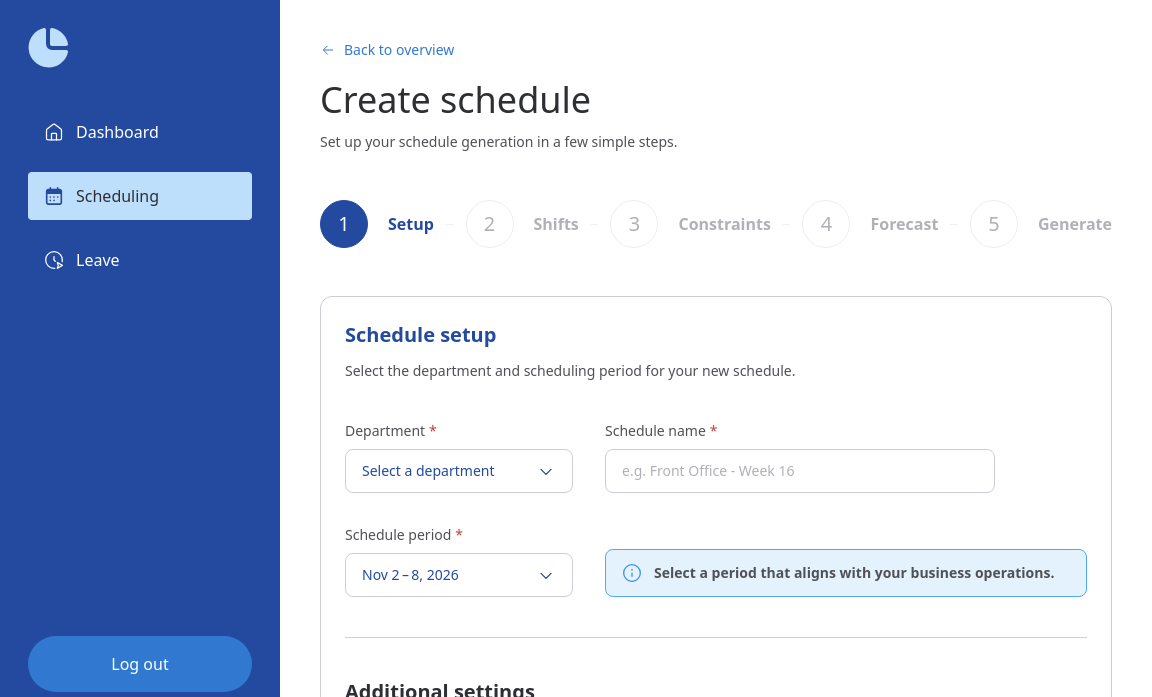
Test: Create Schedule: opening and setup › given_aCompletedSetup_when_nextClicked_then_createsTheDraftAtTheChosenDepartmentAndOpensItsShifts
The image size is (1152, 697).
Step 1. Click the button "Select a department" → (459, 471), box [345,449,573,493]
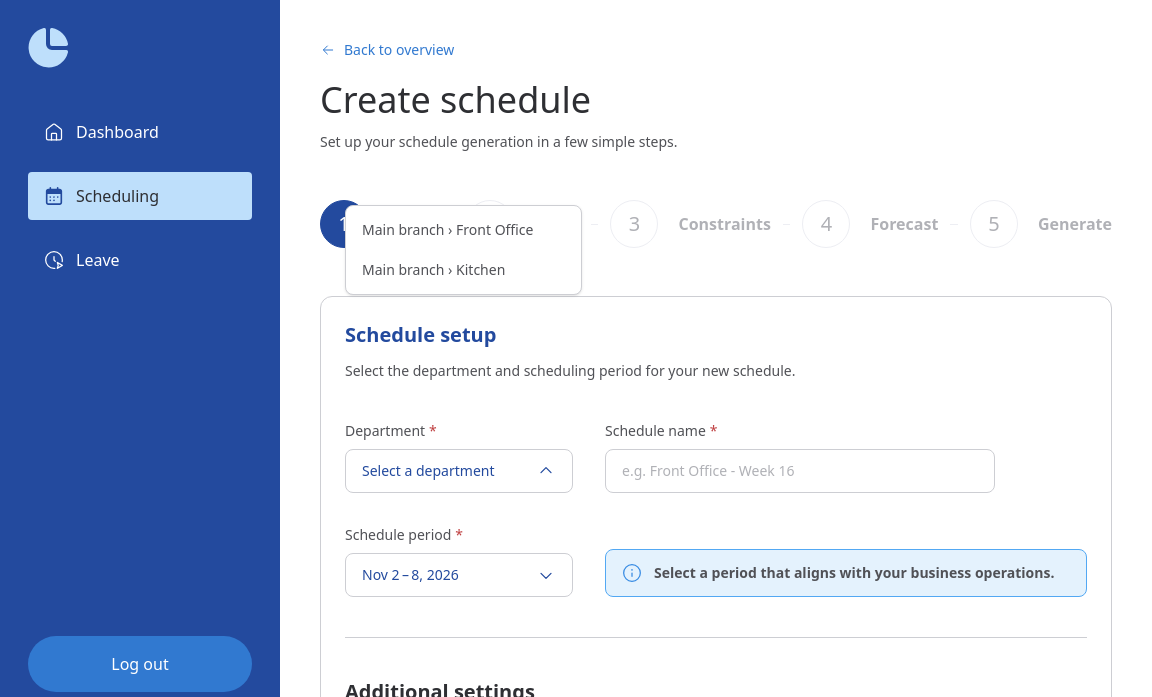
Step 2. Click the option "Main branch › Front Office" → (448, 230), box [362,220,534,239]
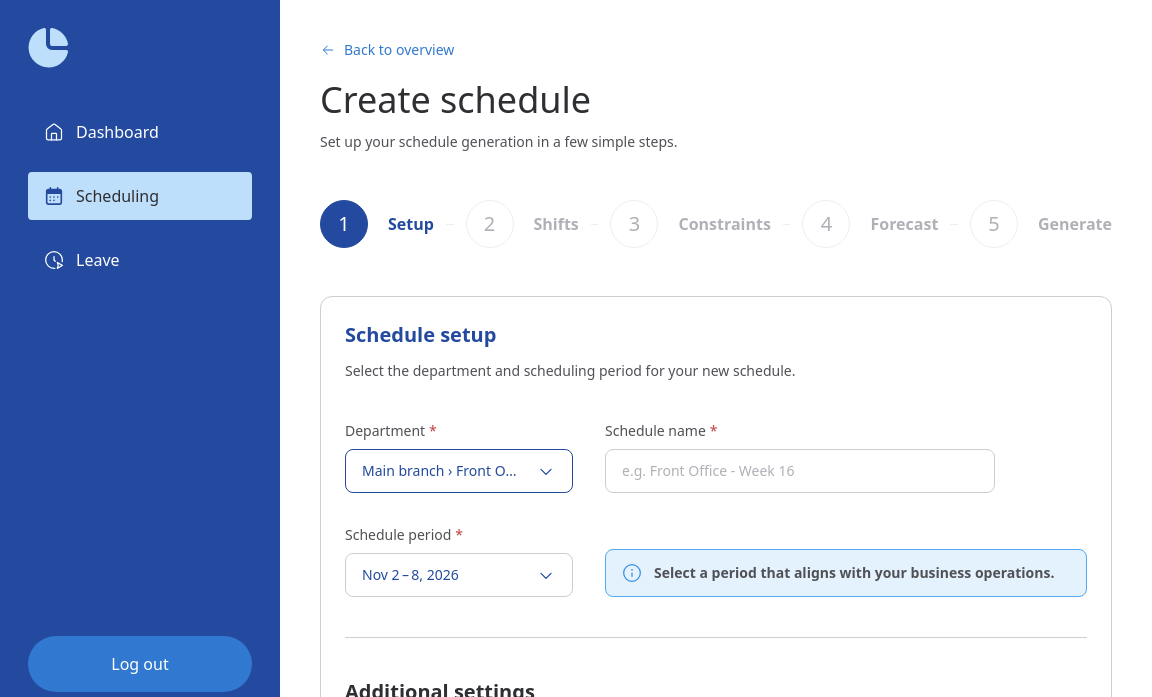
Step 3. Type "Front Office - Week 42" into the field labelled "Schedule name*" → (800, 471), box [622,461,978,481]
(page scrolled)
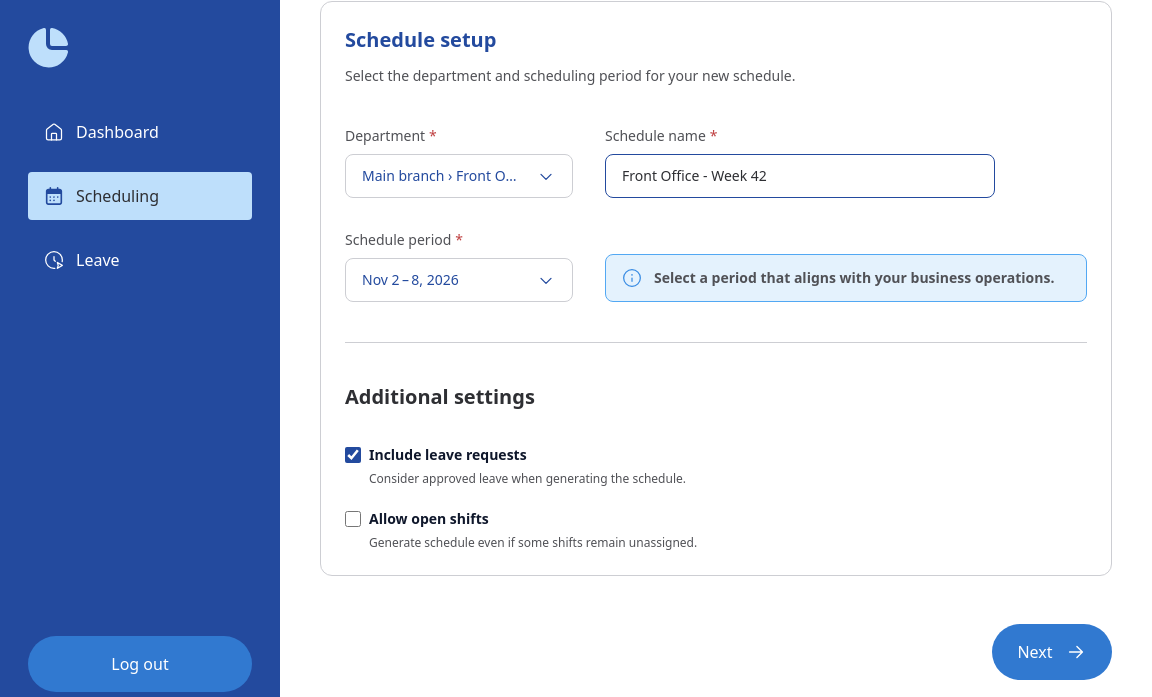
Step 4. Click the button "Next" → (1052, 652), box [992,624,1112,680]
(page scrolled)
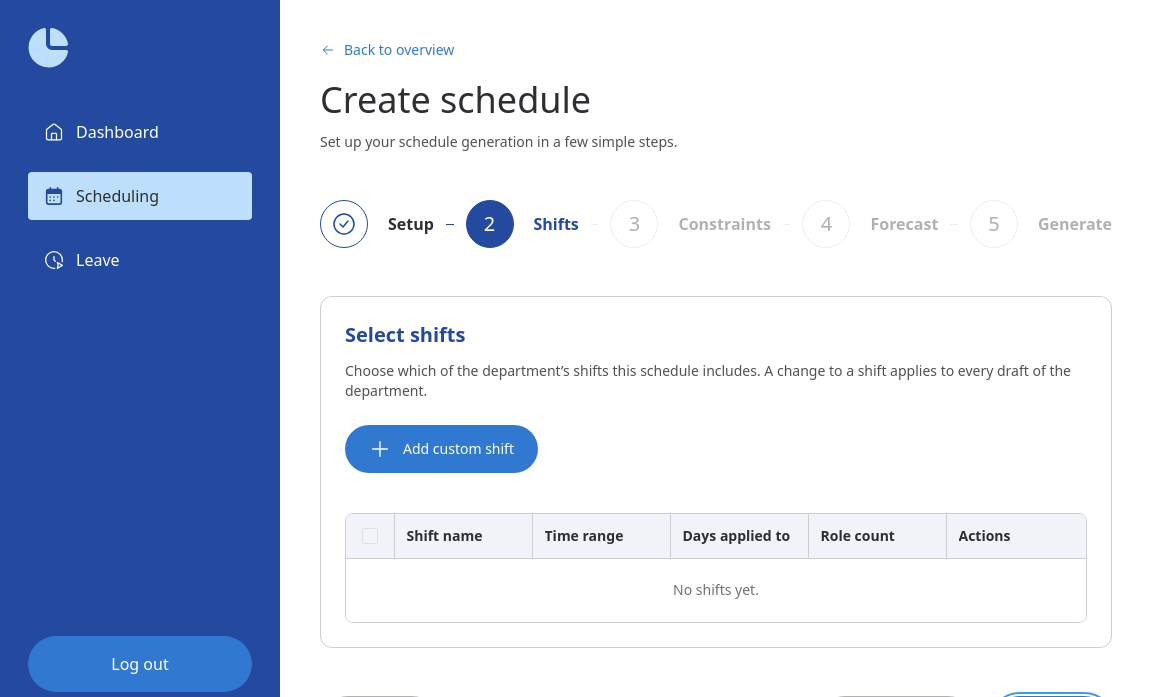
Check: the element "Select shifts" is shown, box [320,296,1112,648]
Check: the text "No shifts yet." is shown, box [346,558,1086,622]
